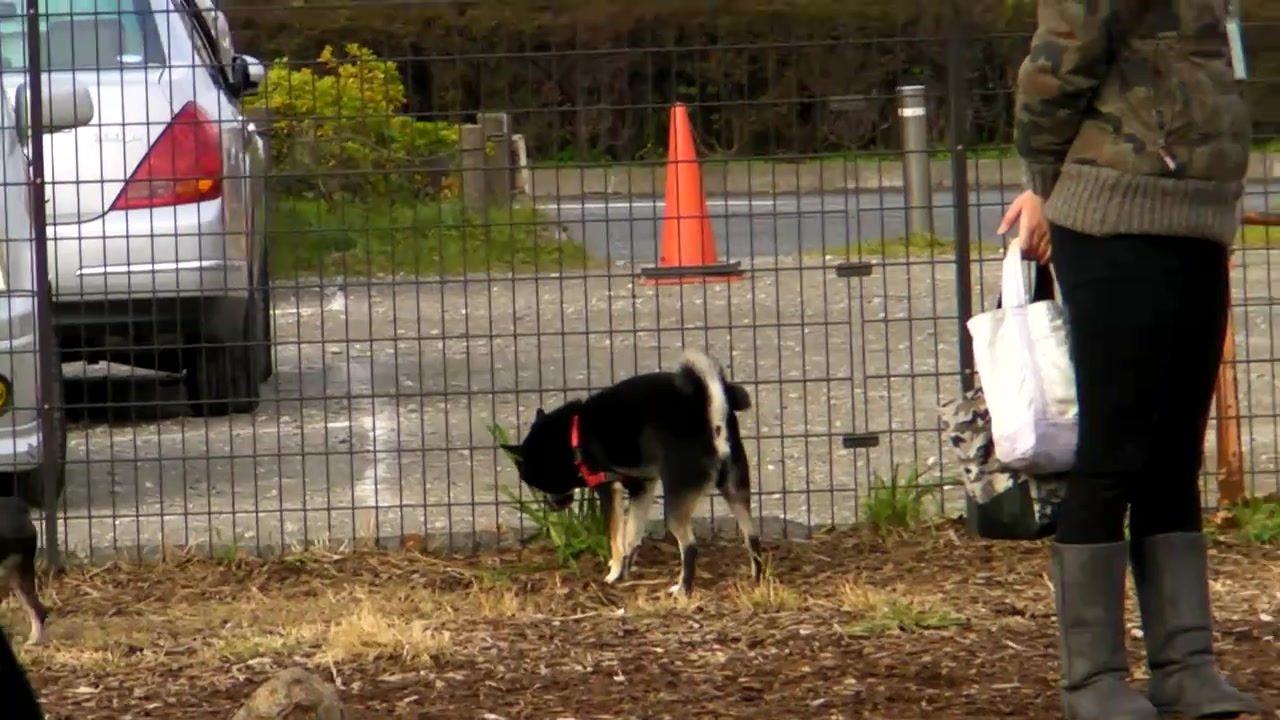dog: (504, 353, 768, 598)
